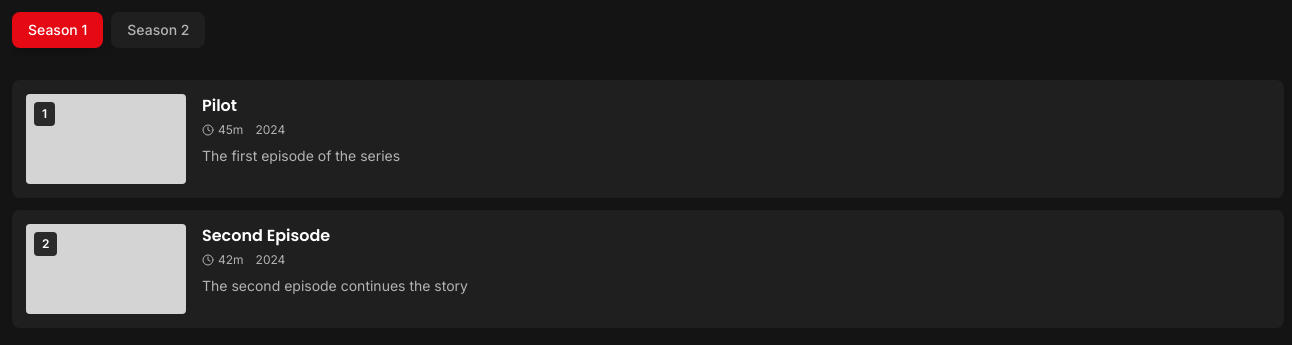
Test: EpisodeList › switches episodes when different season is selected
Check: the heading "Pilot" is shown, box [202,94,237,117]
Click Season 2 button
Click the button "Season 2".
click(158, 30)  # box [111,12,205,48]
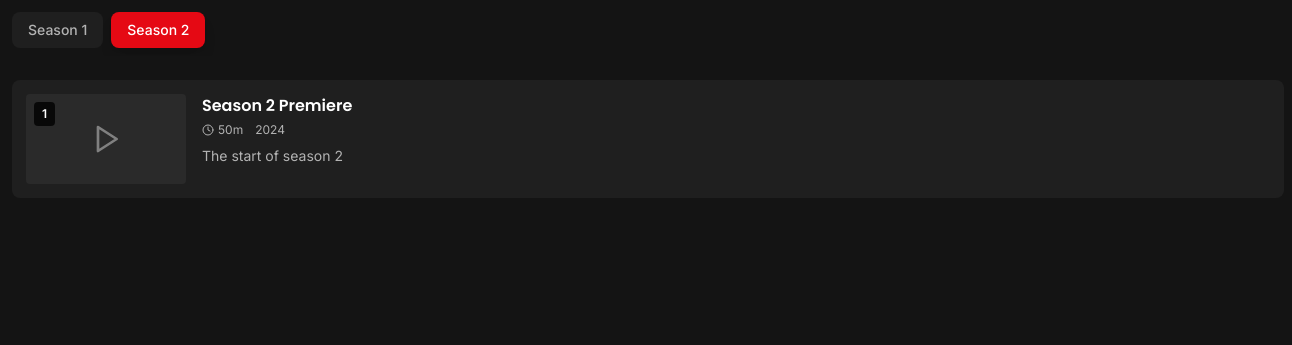
Check: the heading "Season 2 Premiere" is shown, box [202,94,352,117]
